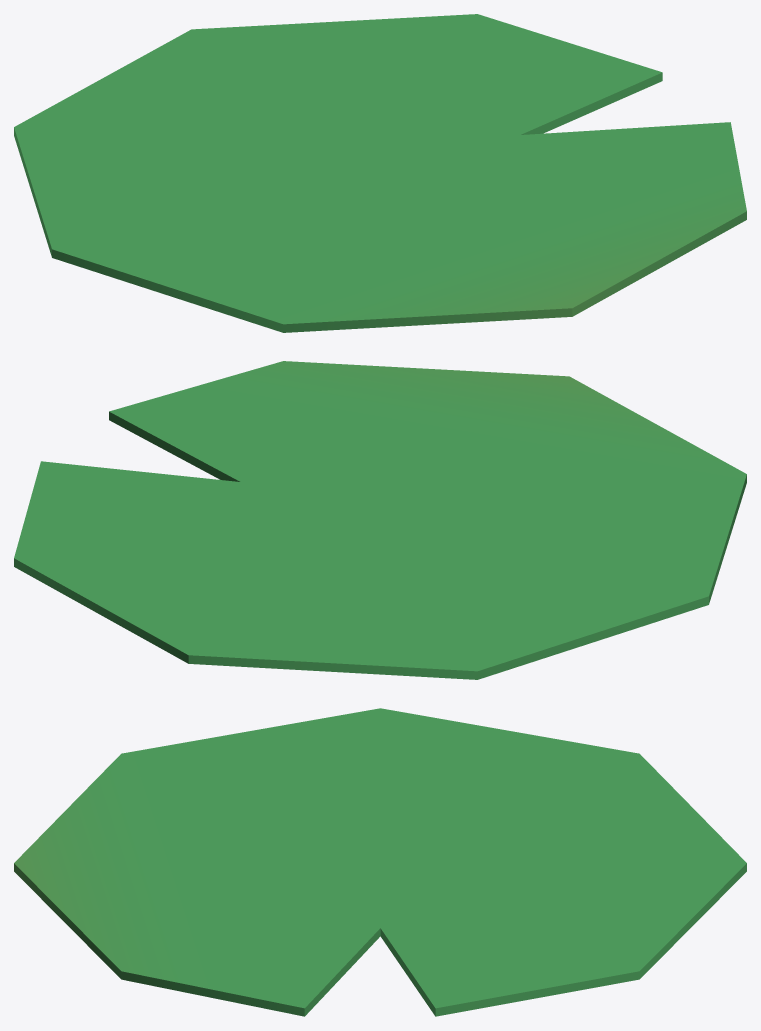
Rendered from leaf_01.fbx.
3 views of the same model, one above another, from view 1: azimuth 30°, elevation 25°; view 2: azimuth 150°, elevation 25°; view 3: azimuth 270°, elevation 25° (orthographic). The views are drawn at different scales.
Parts seen in each view (by area): view 1: leaf_01; view 2: leaf_01; view 3: leaf_01.
Boxes of the visible parts, x1,y1,x2,y2 form: leaf_01: (14,14,746,332); leaf_01: (14,361,746,679); leaf_01: (14,708,746,1016).
Bounding box in the file's own units: 77.51 × 1 × 80.
